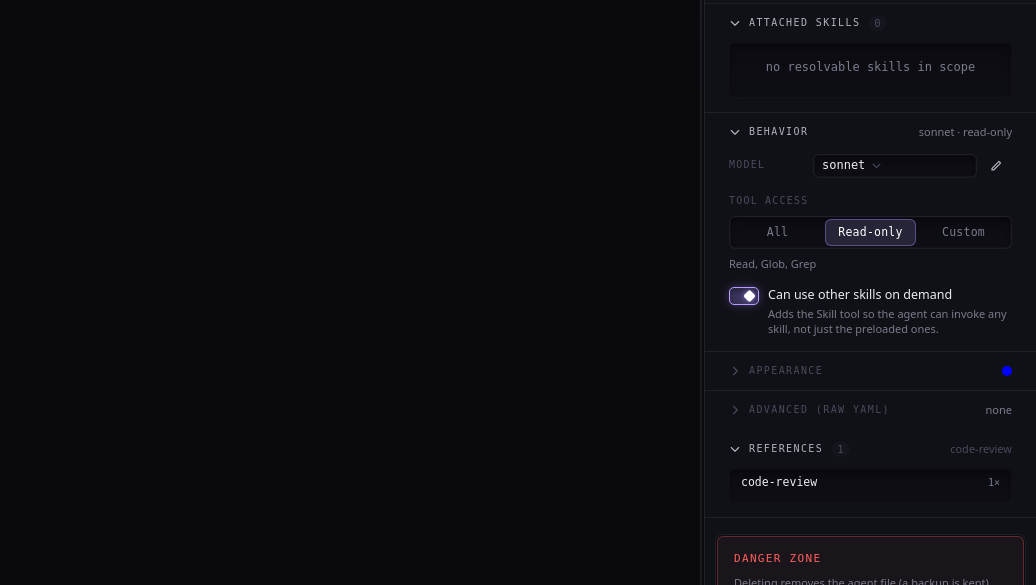
Test: SubagentEditor references › [33] a row click carries the user-scope back target
Check: the button with test id "side-section-refs" is shown, box [729,430,942,469]
Click the button with test id "skill-ref-row-out-code-review": (779, 482) [735,469,1006,497]
(page scrolled)
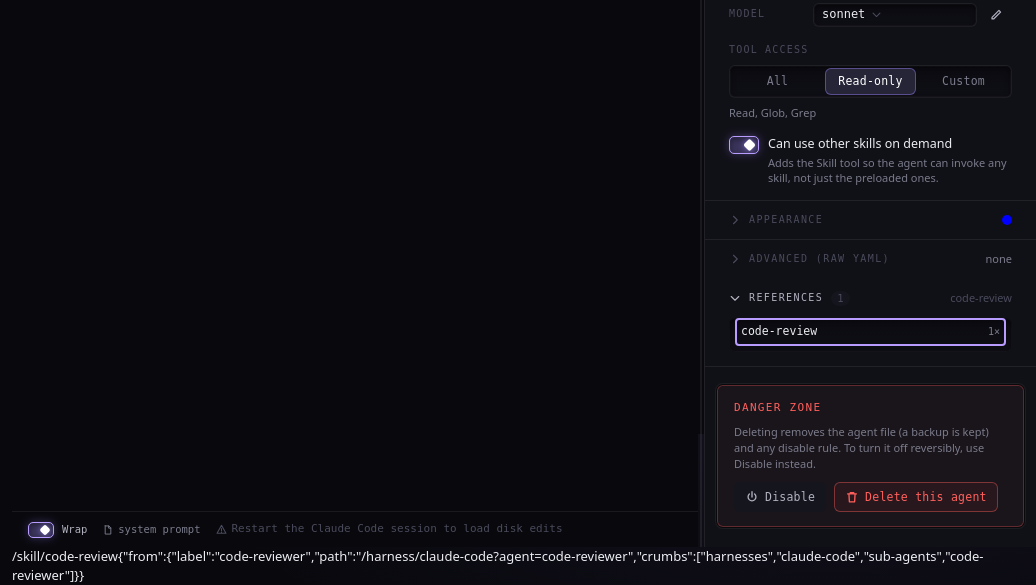
Check: the text with test id "target-path" reads "/skill/code-review", box [12,547,118,565]
